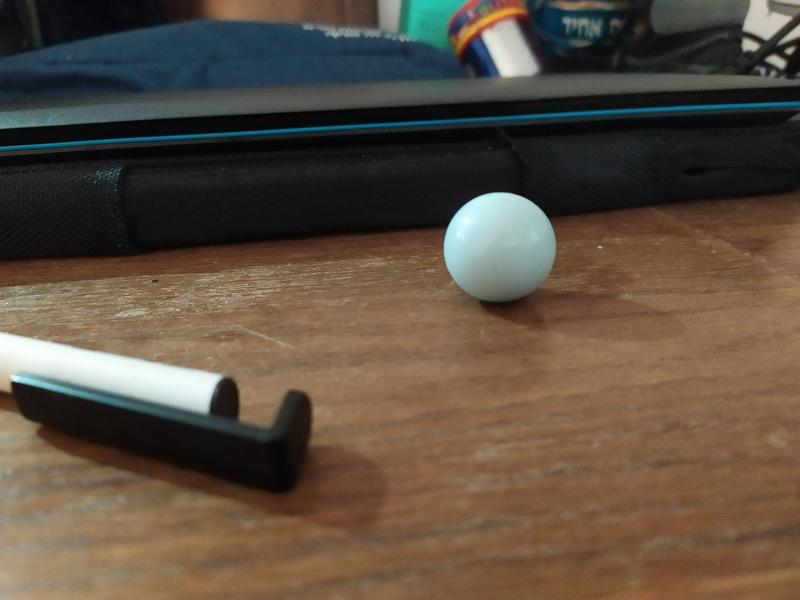Warning: (441, 188, 560, 305)
